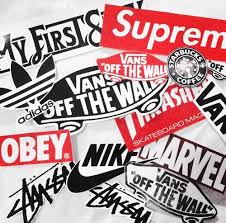adidas: (1, 53, 55, 124)
nike: (66, 156, 157, 194)
vans: (65, 69, 118, 93), (155, 166, 189, 193), (120, 53, 149, 65)
